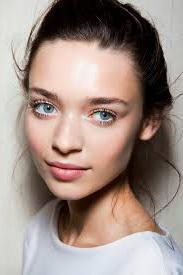face: (25, 40, 135, 200)
